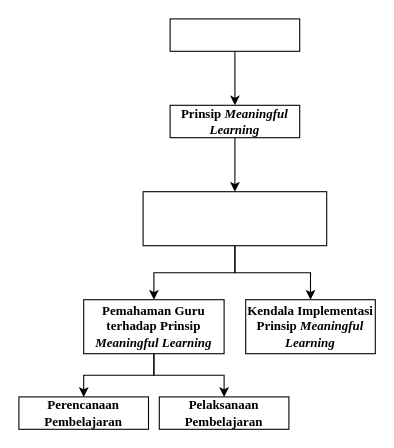
Image size: 394x448. Some labels were removed from this diagram. The shapes that lost their labels are listed below. From the top down, each one's box as (x1, y1, x2, y2) in pixels, then its label:
(169, 18, 300, 51): Pendekatan Deep Learning
(142, 191, 327, 246): Implementasi pada Pembelajaran Sejarah Kelas X SMA Negeri 4 Surakarta
